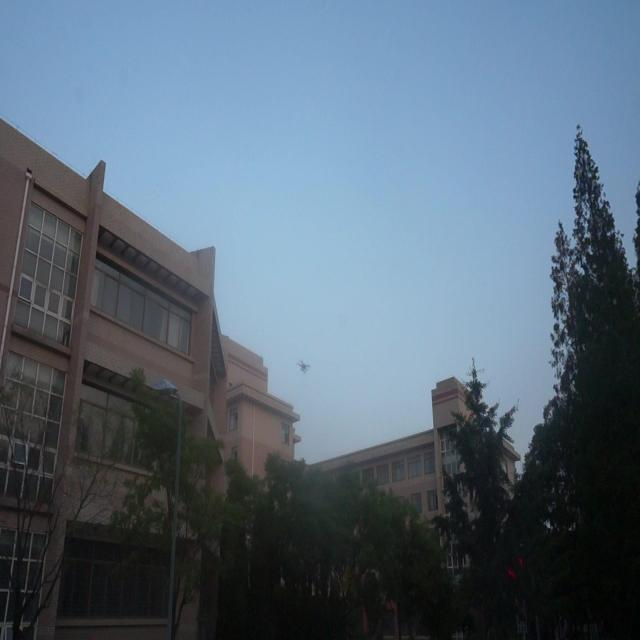drone: (294, 354, 310, 378)
